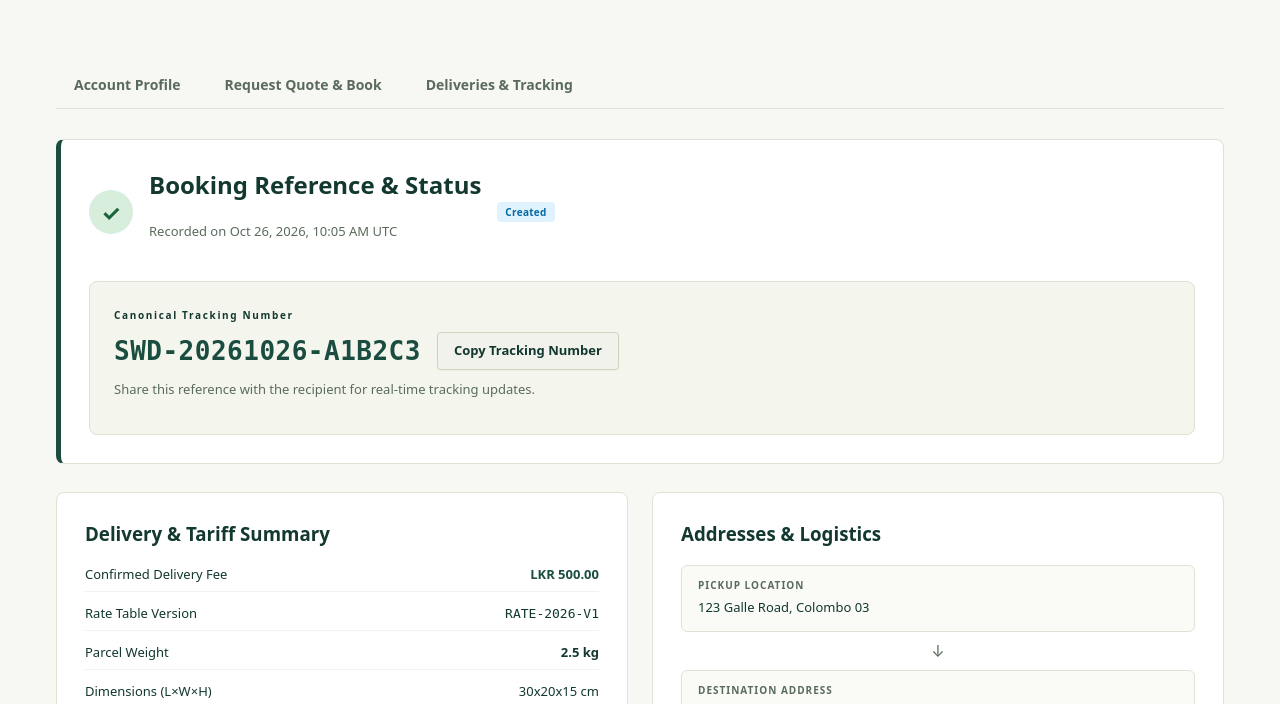
Test: CustomerBookingConfirmedPage (Issue #118) › copies tracking number to clipboard and provides visual feedback
This screenshot has width=1280, height=704.
(page scrolled)
Click the button "Copy Tracking Number" at (528, 351), box [437,332,619,370]
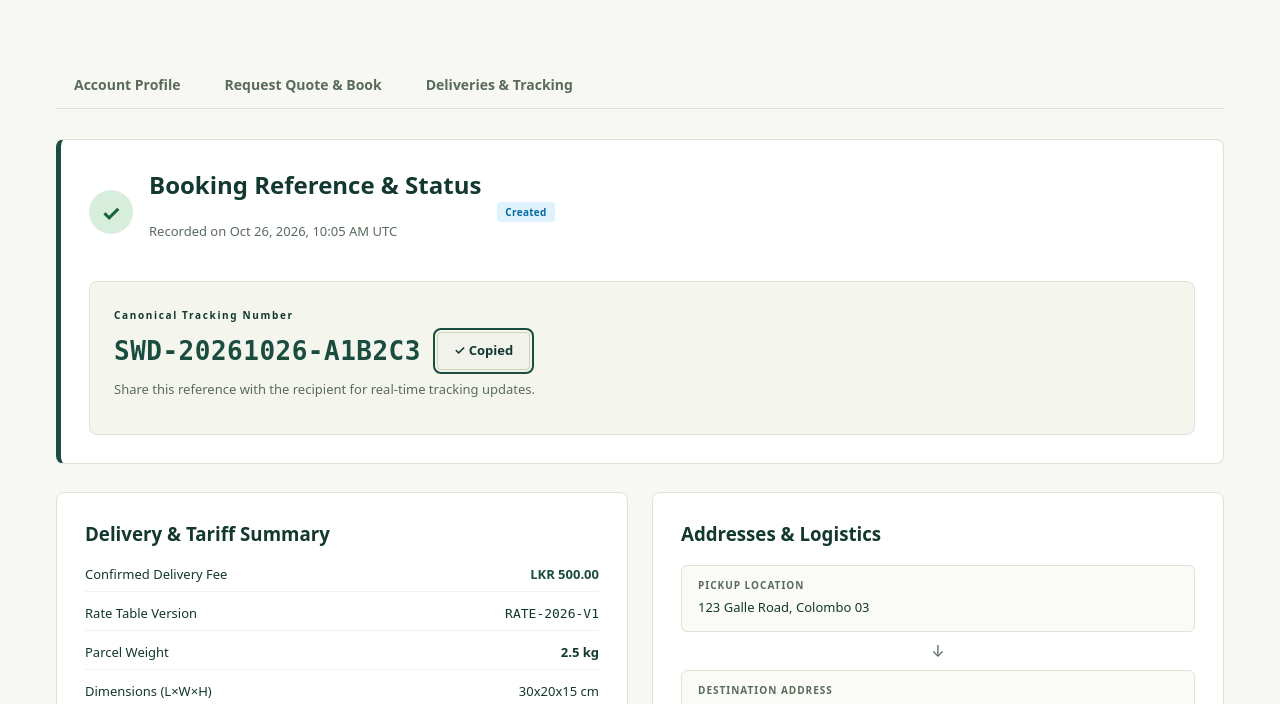
Check: the button with aria-label "tracking number copied" is shown, box [437,332,530,370]
